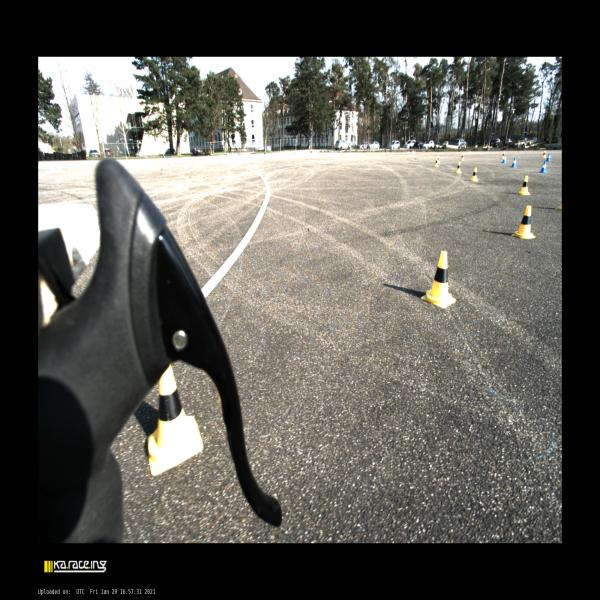blue_cone: (539, 161, 547, 173), (510, 157, 517, 168), (546, 154, 551, 162), (502, 155, 506, 163)
yellow_cone: (148, 365, 203, 476), (421, 251, 456, 308), (512, 205, 536, 238), (518, 176, 530, 195), (470, 168, 479, 182), (456, 162, 462, 174), (460, 153, 465, 160), (542, 150, 546, 158), (501, 152, 505, 159), (435, 158, 438, 167), (438, 155, 440, 164)
